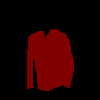polo: (26, 28, 74, 90)
